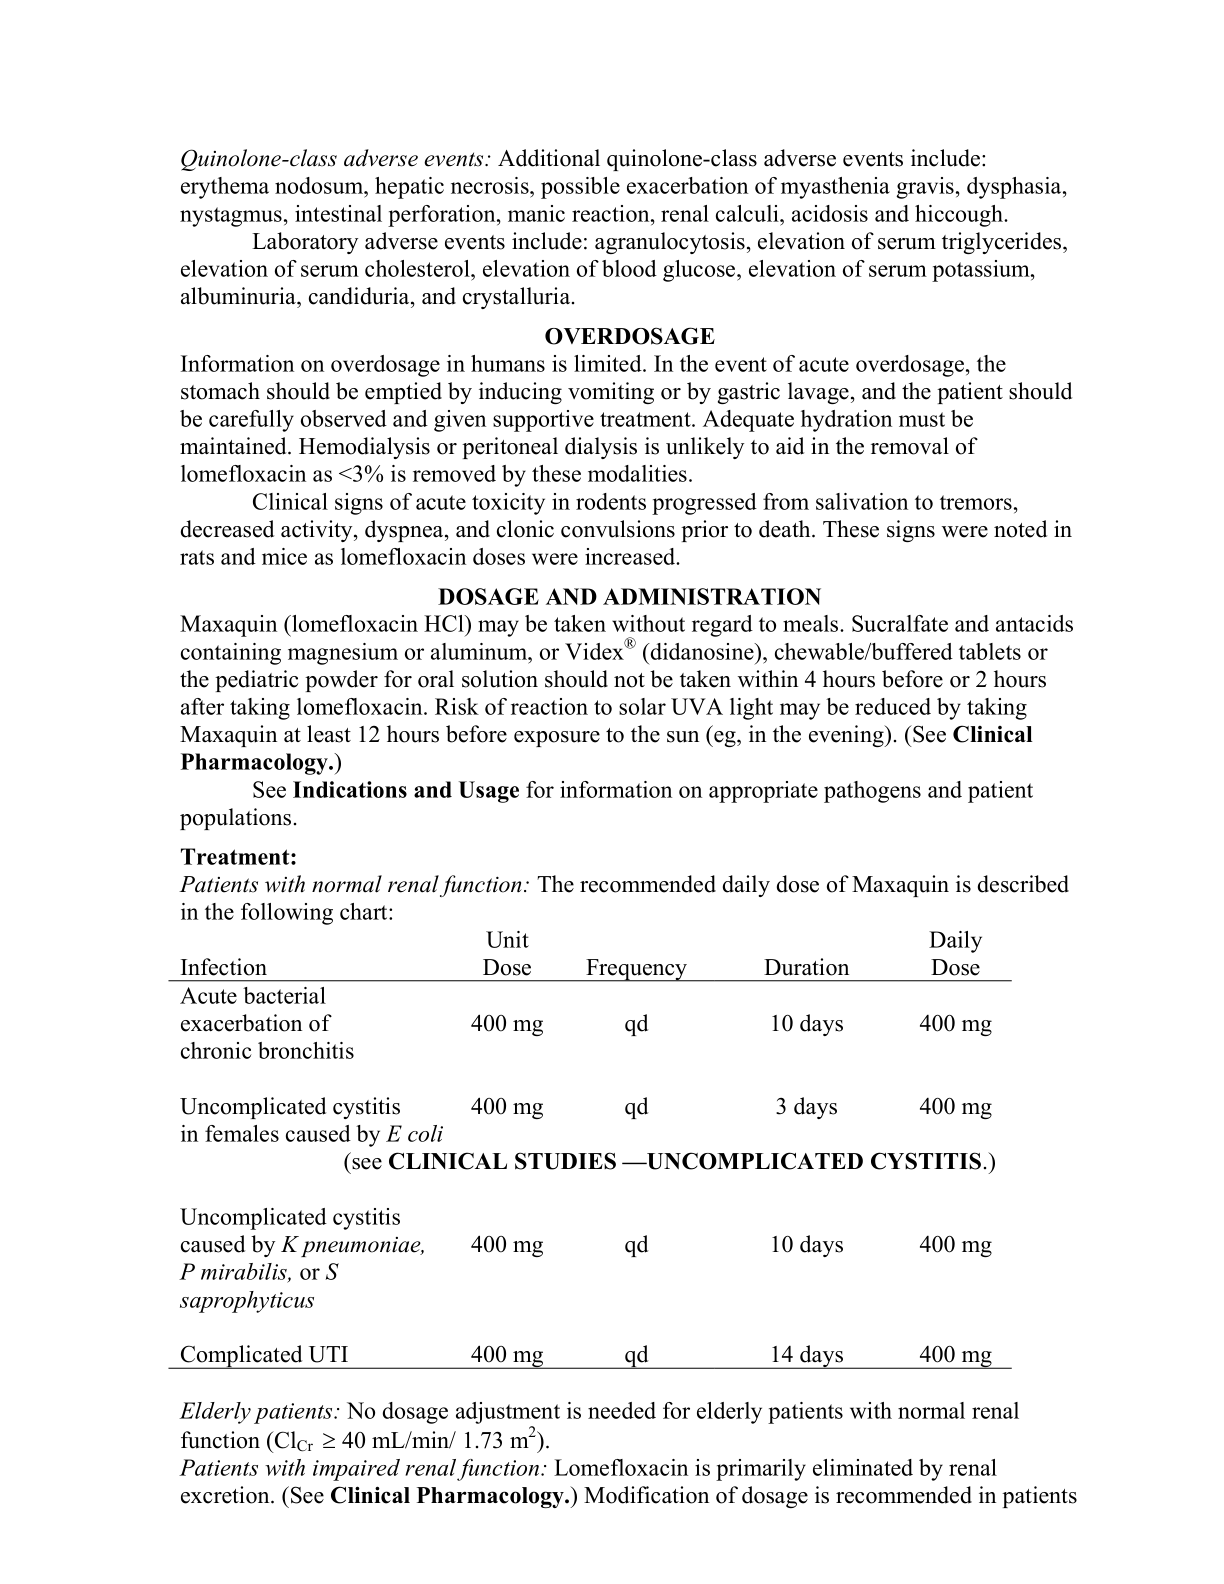partial_lined: (166, 926, 1014, 1147), (168, 1201, 1014, 1372)
